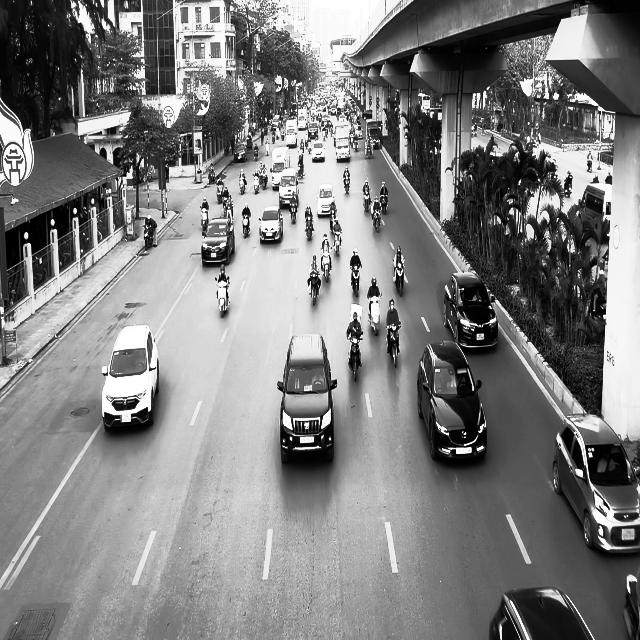car: (552, 412, 640, 554), (417, 339, 487, 462), (277, 333, 337, 463), (102, 323, 160, 431), (488, 586, 596, 640), (443, 271, 498, 349), (201, 218, 235, 266), (258, 206, 283, 244), (316, 183, 336, 217), (312, 140, 325, 162), (234, 142, 248, 162)
motorbike: (347, 331, 363, 382), (386, 322, 401, 368), (215, 275, 230, 318), (367, 293, 382, 335), (308, 272, 320, 306), (144, 221, 157, 250), (394, 261, 404, 296), (350, 264, 361, 294), (332, 227, 342, 256), (200, 205, 209, 235), (371, 205, 381, 232), (304, 214, 314, 240), (242, 212, 250, 238), (362, 190, 370, 212), (564, 175, 572, 197), (380, 193, 388, 214), (343, 175, 350, 194), (239, 175, 246, 194), (254, 144, 258, 161)
